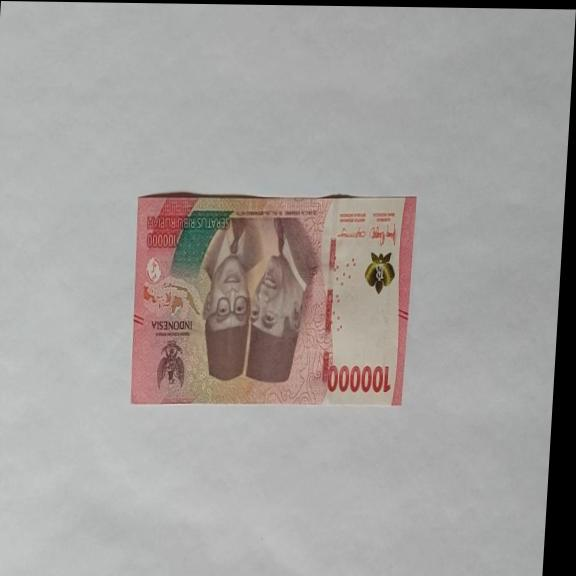Kertas: (125, 190, 416, 409), (324, 362, 392, 396)
